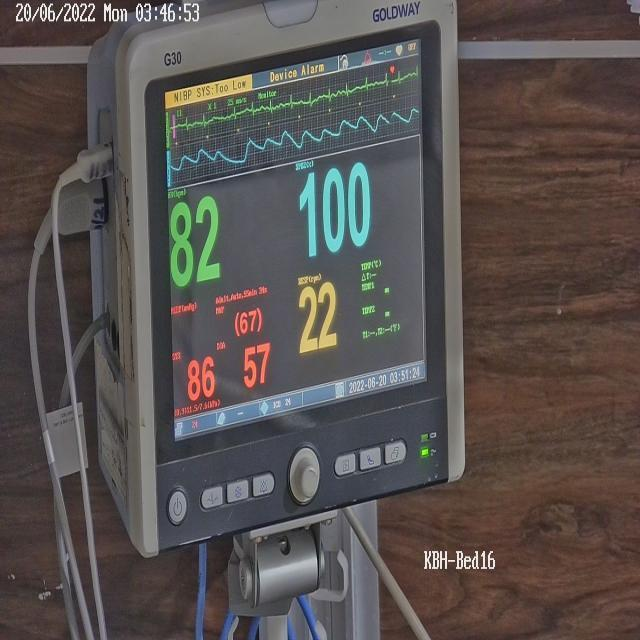Monitor: (55, 0, 465, 635)
